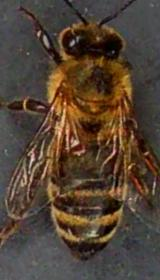varroa_mite: (58, 132, 89, 160)
